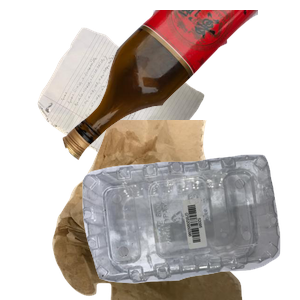glass: (60, 10, 300, 163)
paper: (35, 25, 232, 204)
plastic: (80, 152, 300, 300)
trash: (50, 120, 285, 300)
